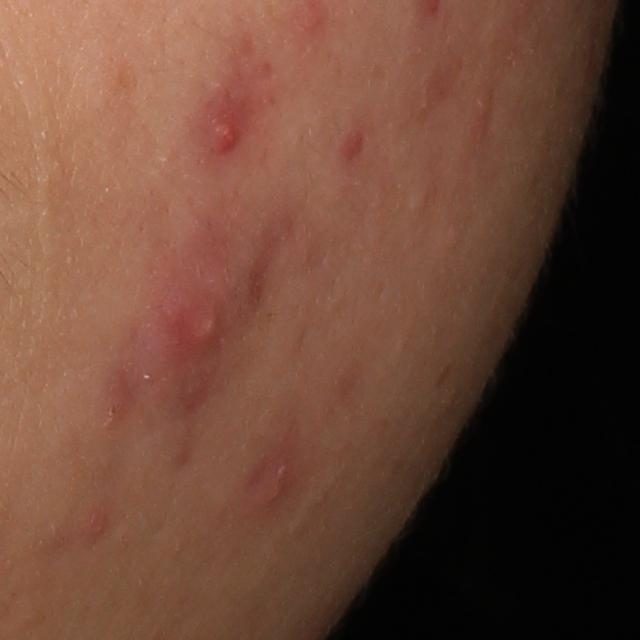papule: (125, 255, 229, 417), (196, 82, 249, 171), (252, 469, 289, 514), (332, 124, 361, 162), (83, 513, 113, 542)
